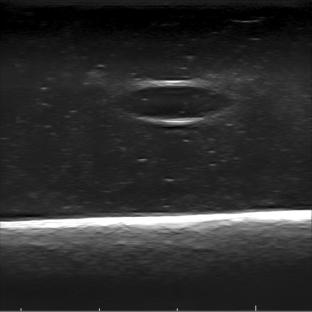vessel: (122, 80, 236, 125)
